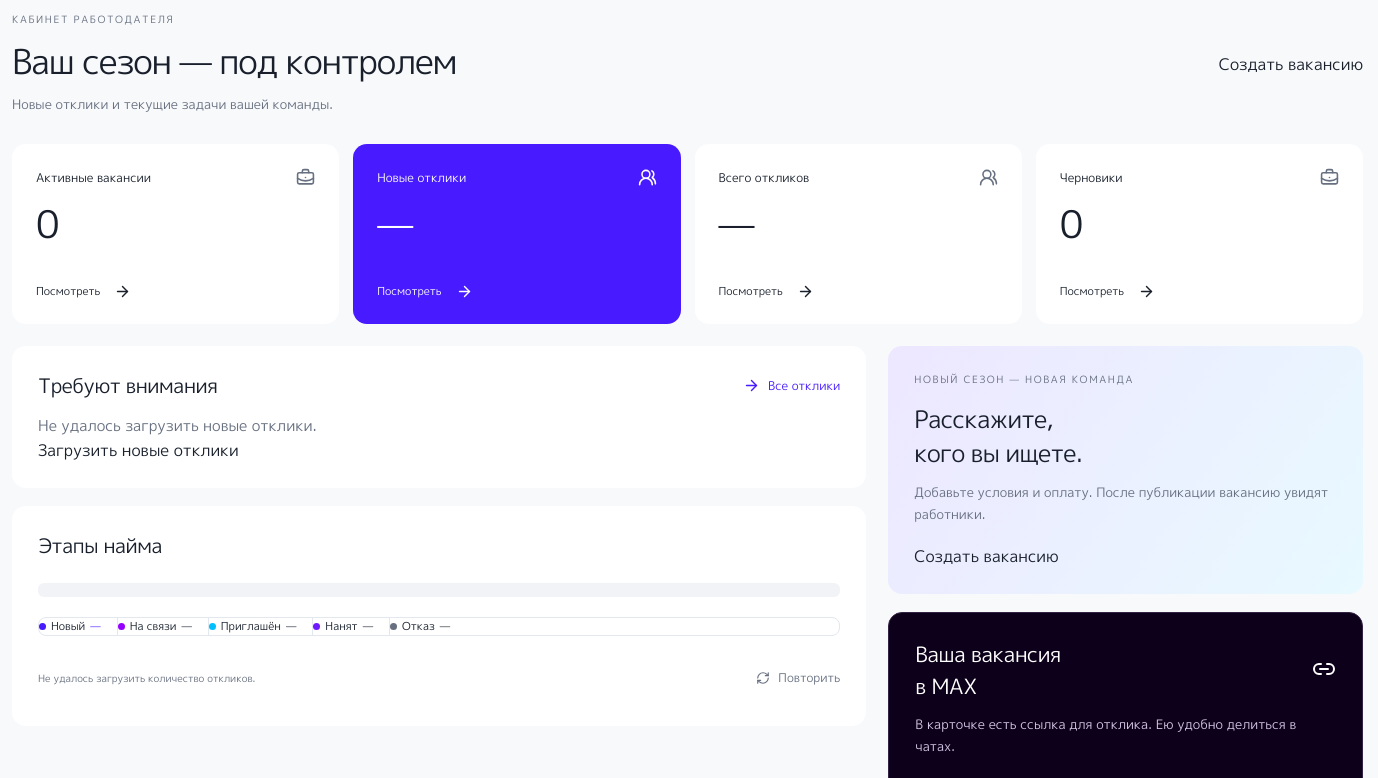
Test: hiring overview › does not turn unavailable metrics into zero and recovers independently of vacancies
This screenshot has width=1378, height=778.
Expected: the text "Не удалось загрузить количество откликов." is shown, [38,670,255,686]
Expected: the link "Всего откликов — Посмотреть" is shown, [694,144,1022,324]
What coordinates should you click on to do the following:
click the button "Повторить"
I would click on:
 (798, 678)
Its box is [756,656,840,700].
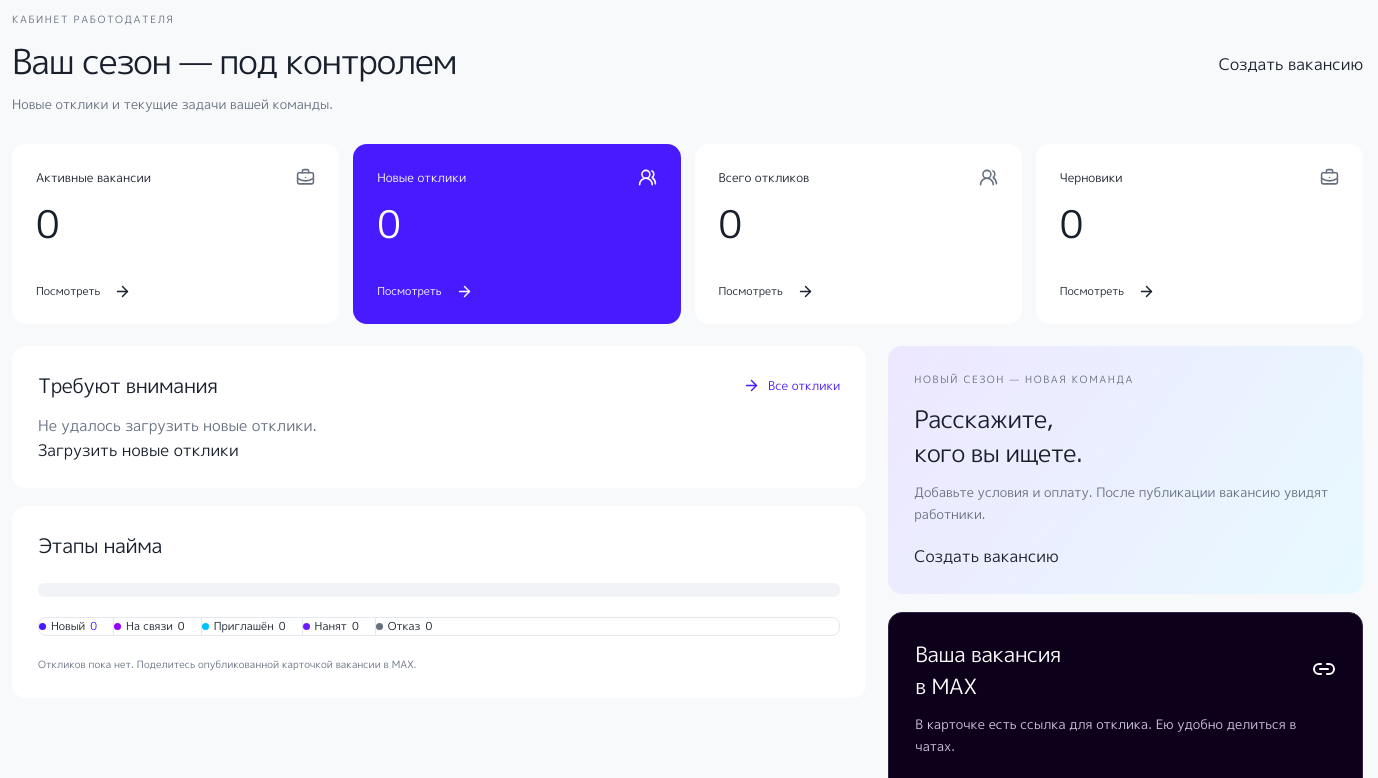
Expected: the link "Всего откликов 0 Посмотреть" is shown, [694,144,1022,324]
Expected: the text "Не удалось загрузить количество откликов." is gone
